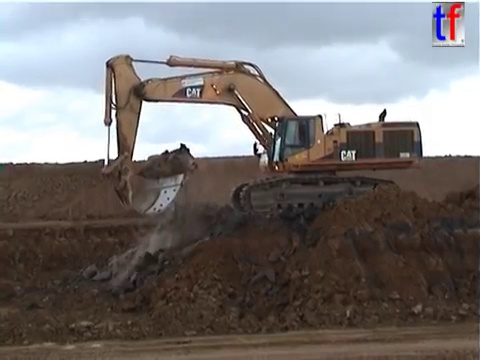excavator: (97, 51, 425, 221)
